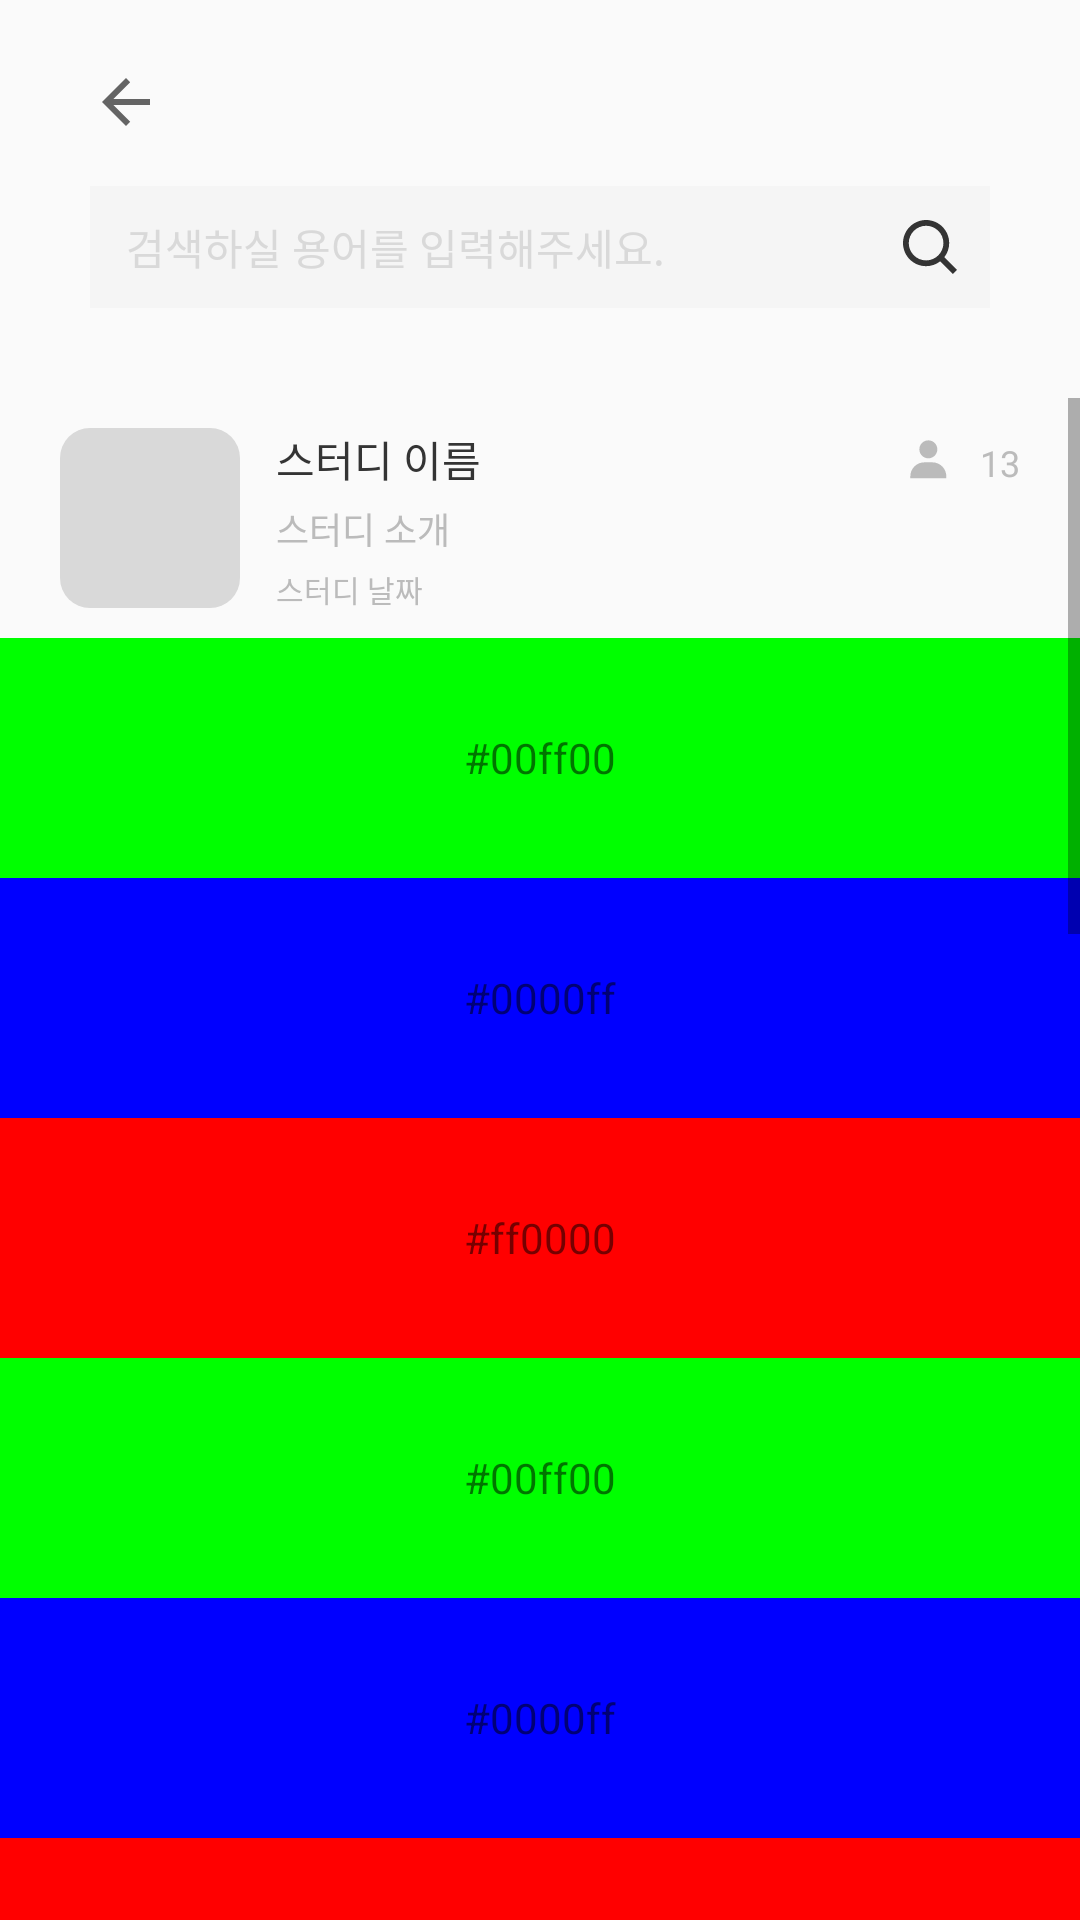

Icon click points for this 1080 x 1920 phone screenshot, format [x,y]:
search: [930,247]
user: [928,459]
